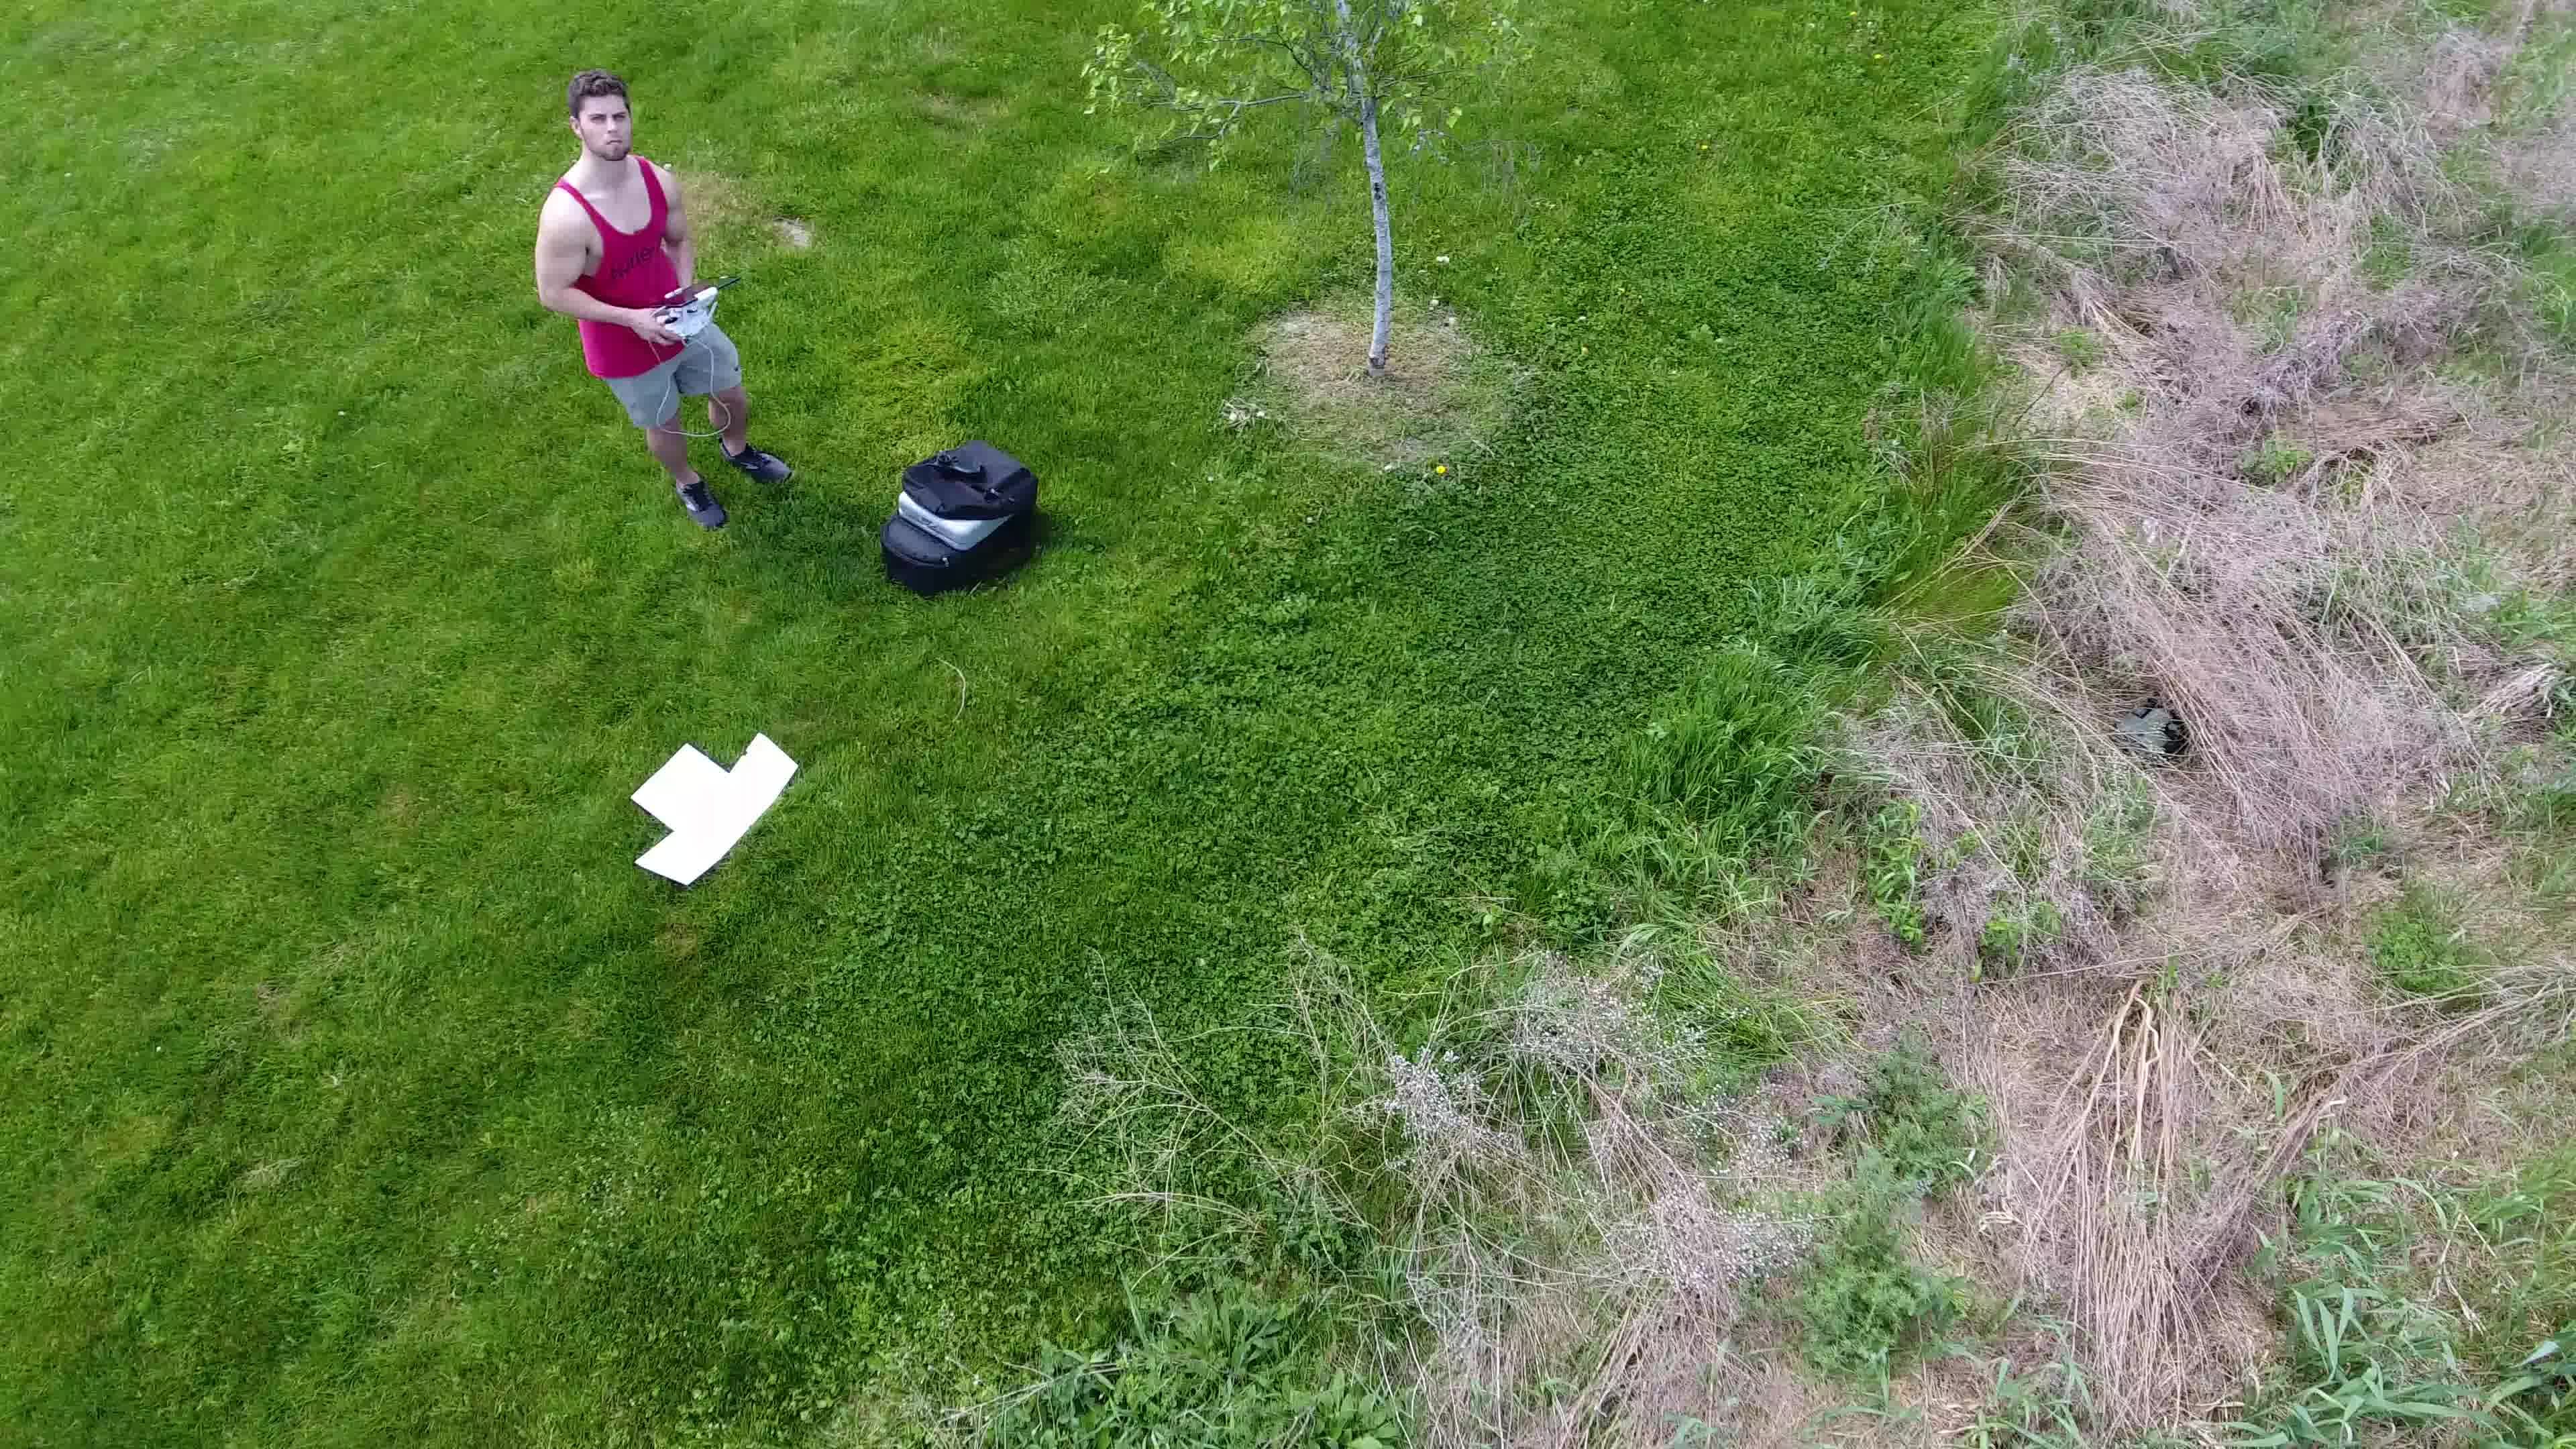transporter9: (2116, 702, 2185, 757)
